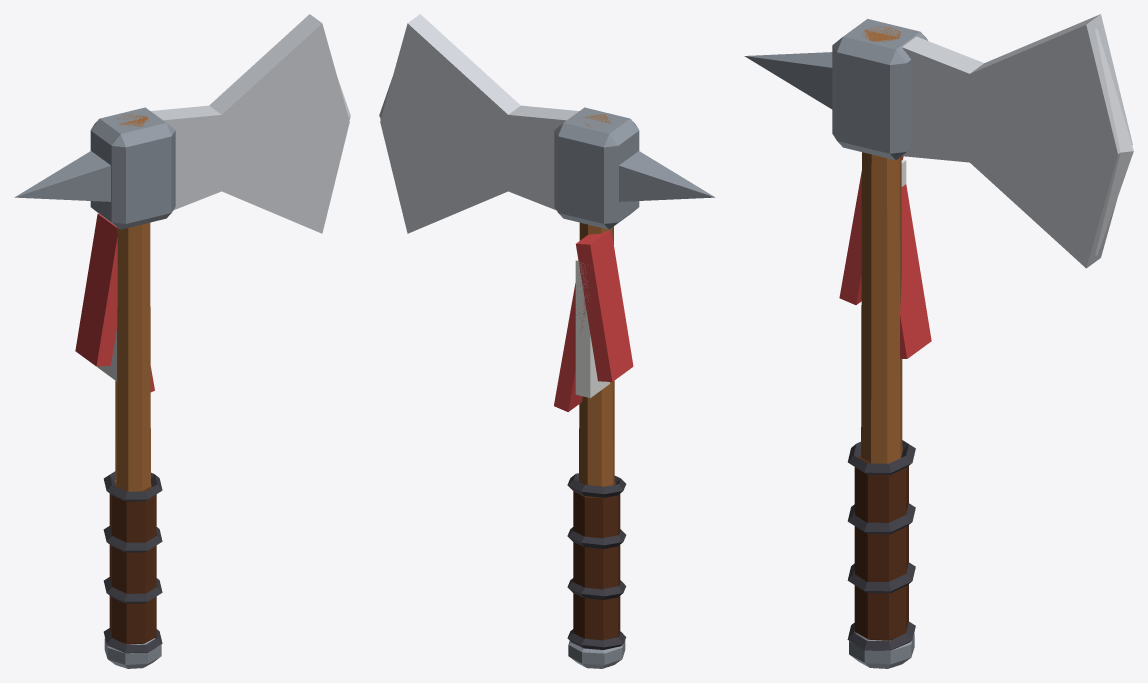
The model's file is IronTomahawk.fbx.
3 views of the same model, side by side, from view 1: azimuth 30°, elevation 25°; view 2: azimuth 150°, elevation 25°; view 3: azimuth 330°, elevation 25° (orthographic). The views are drawn at different scales.
Visible parts, largest first — view 1: IronTomahawk; view 2: IronTomahawk; view 3: IronTomahawk.
Boxes of the visible parts, x1,y1,x2,y2 form: IronTomahawk: [14, 14, 350, 668]; IronTomahawk: [379, 14, 715, 668]; IronTomahawk: [744, 14, 1133, 668].
Size of the model in its own units: 1.84 by 3.12 by 0.35.
Materials: 1 (1 with a texture image).
